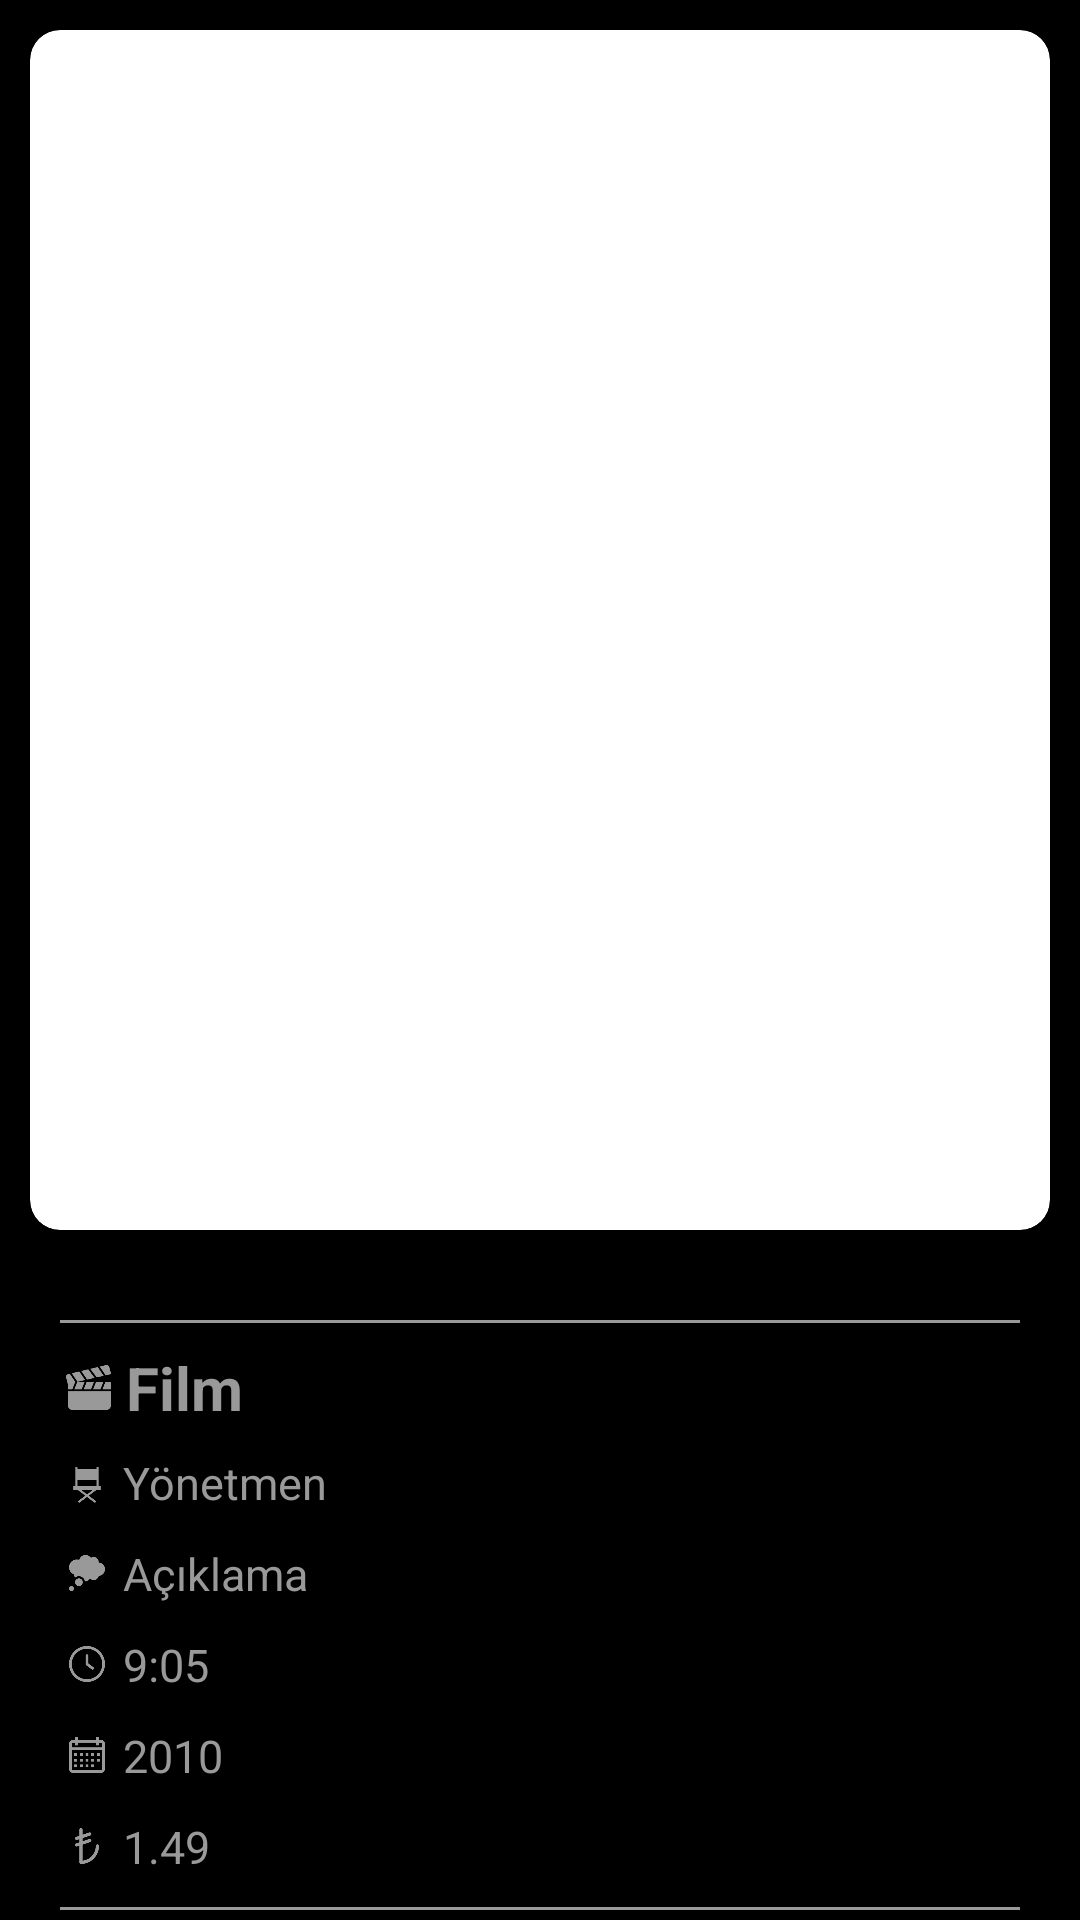

Where icons sit on this 1080px x 1920px app screen, as [x1,y1,x2,y2]:
calendar: [69,1737,105,1773]
clock: [69,1646,105,1682]
director chair: [73,1467,101,1503]
movie: [66,1365,111,1410]
thinking: [69,1555,105,1591]
turkish lira: [75,1828,99,1864]
